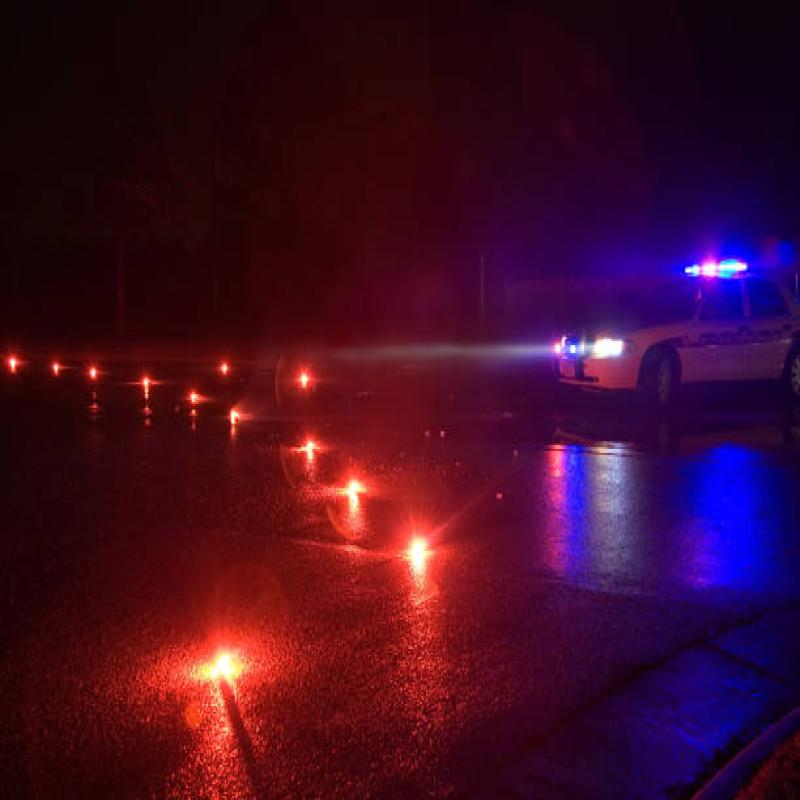AmbulanceSiren: (680, 264, 767, 306)
